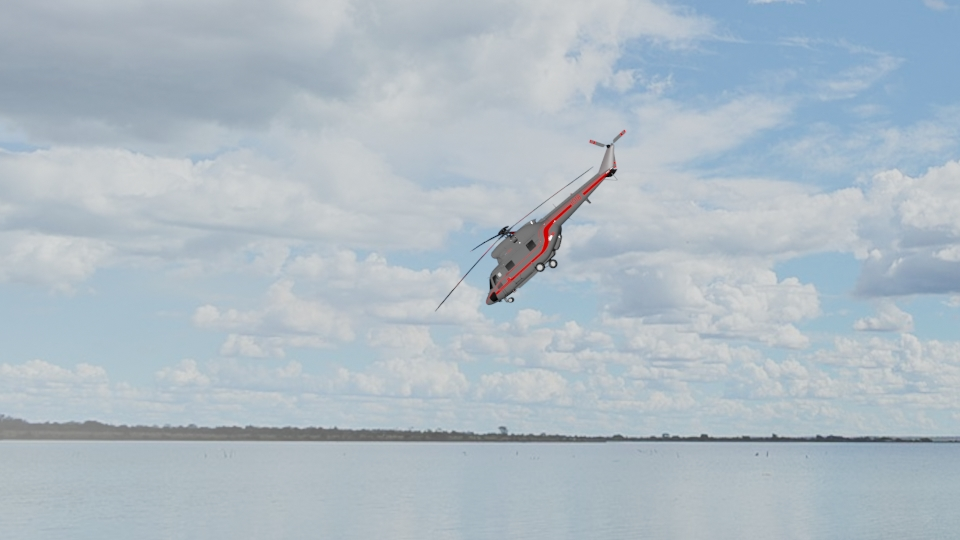heli: (482, 127, 625, 306)
